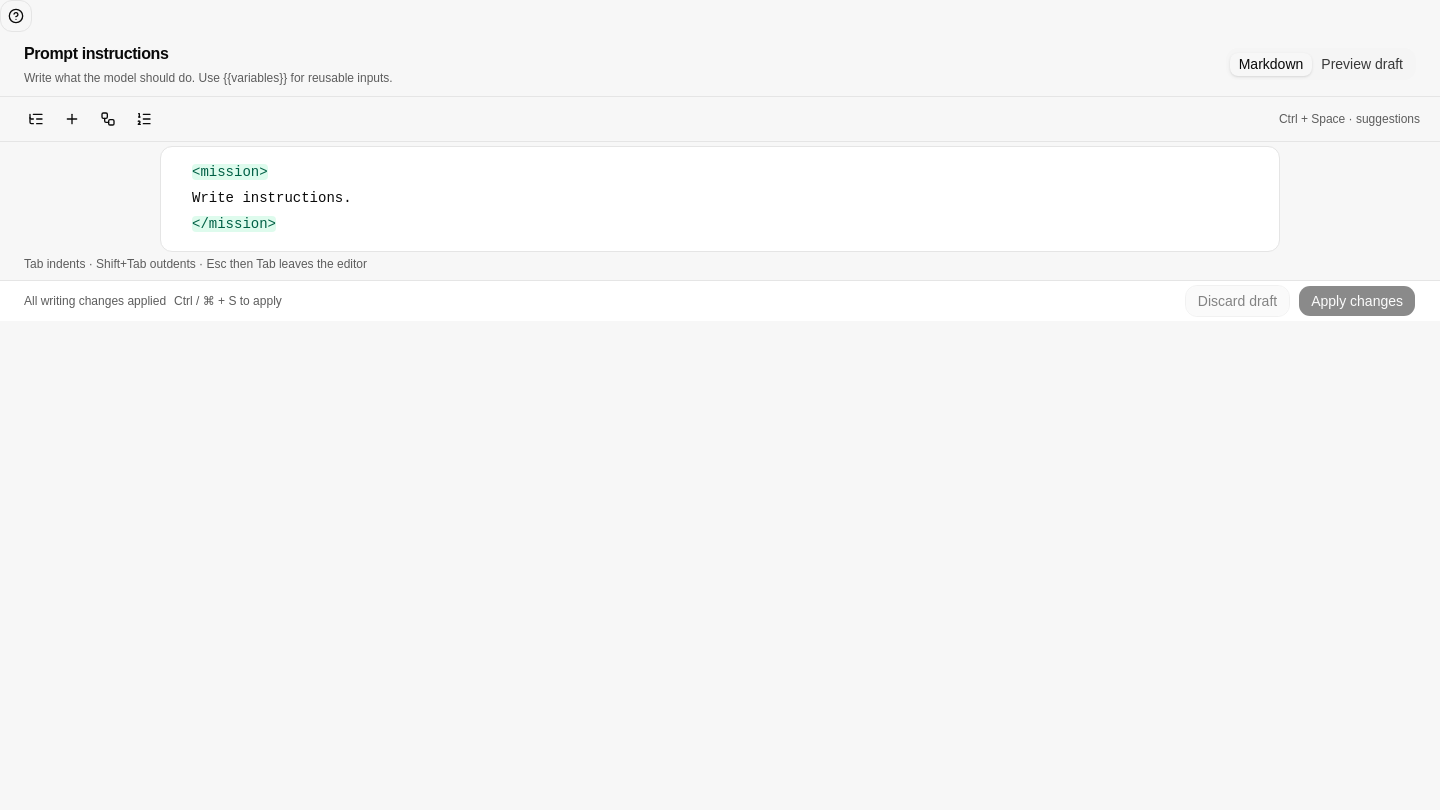
it: does not teach keyboard or programmatic activation
Click the 2nd button named "Sections" at (36, 119), box [20, 103, 52, 135]
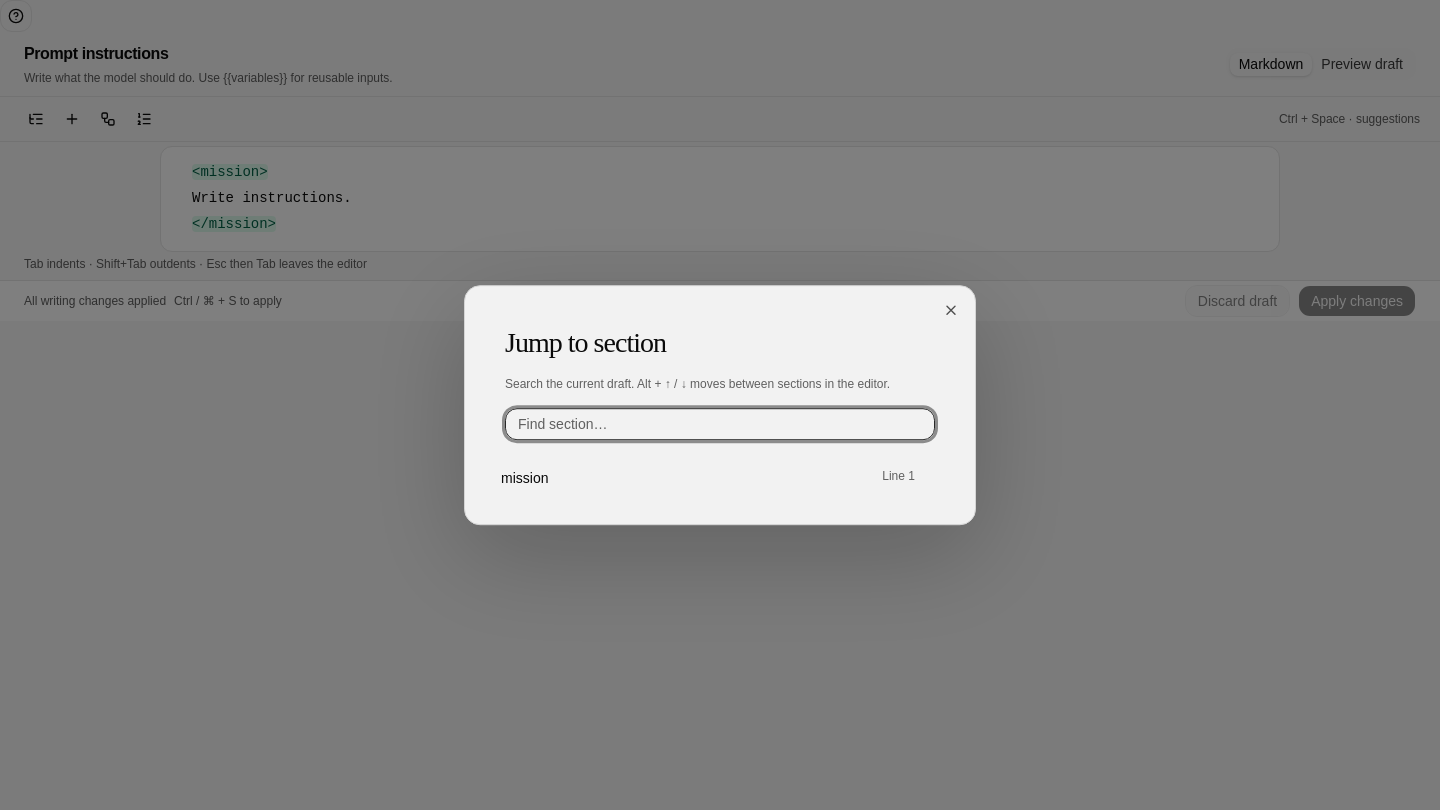
Expected: the dialog "Jump to section" is shown, [464, 285, 976, 525]
